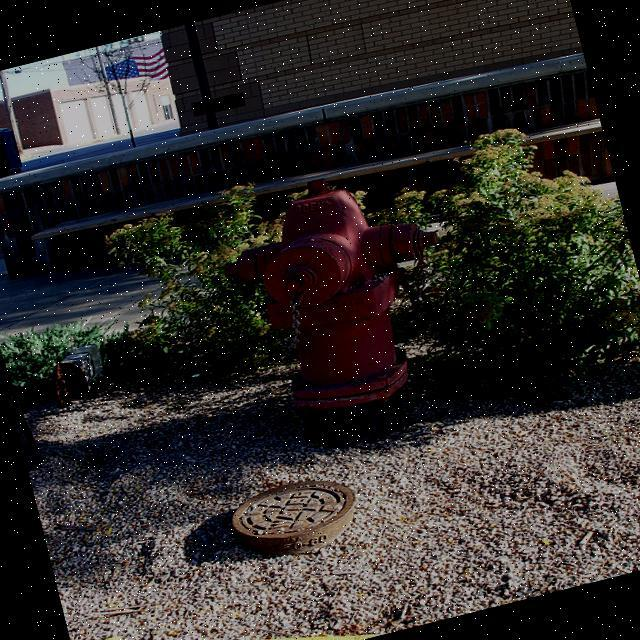fire_hydrant: (210, 152, 482, 456)
